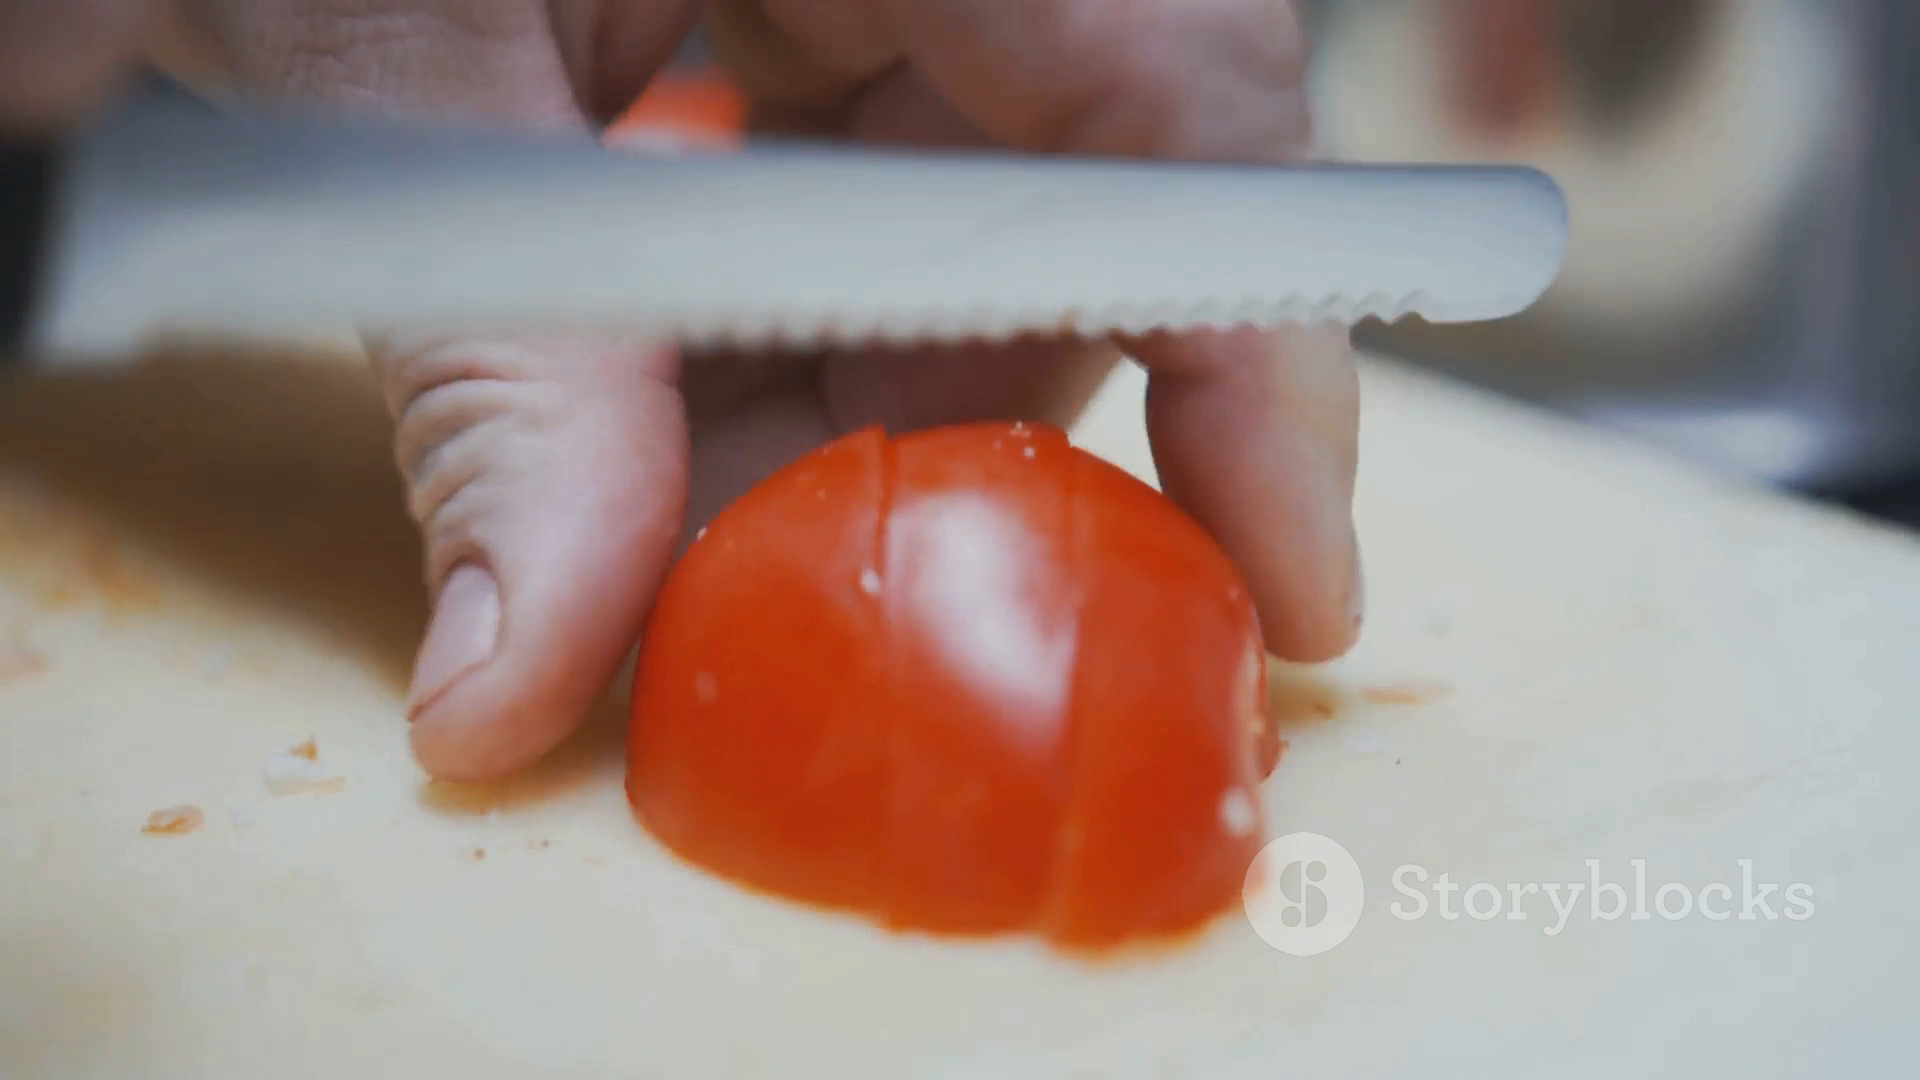cortante: (44, 103, 1569, 385)
